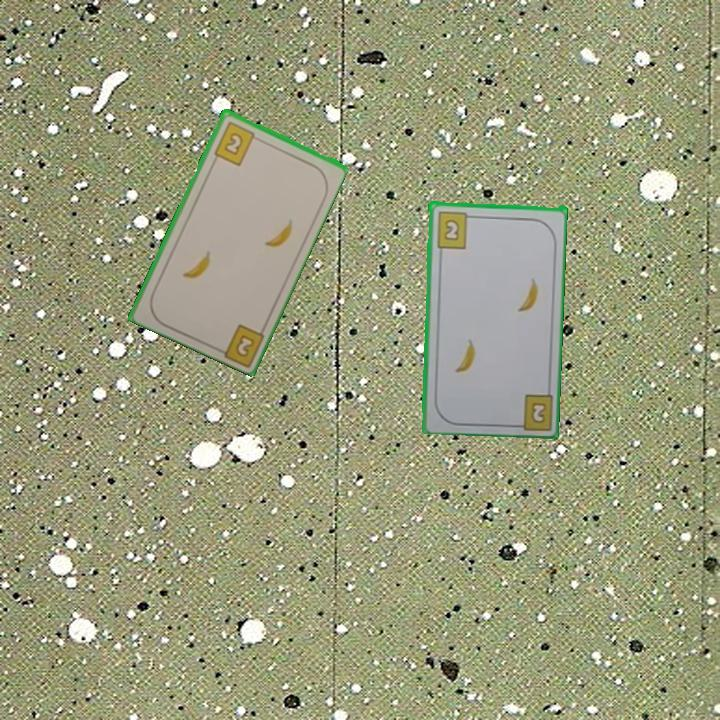2b: (210, 117, 262, 168), (433, 208, 476, 251), (232, 330, 258, 360), (528, 398, 549, 424)
